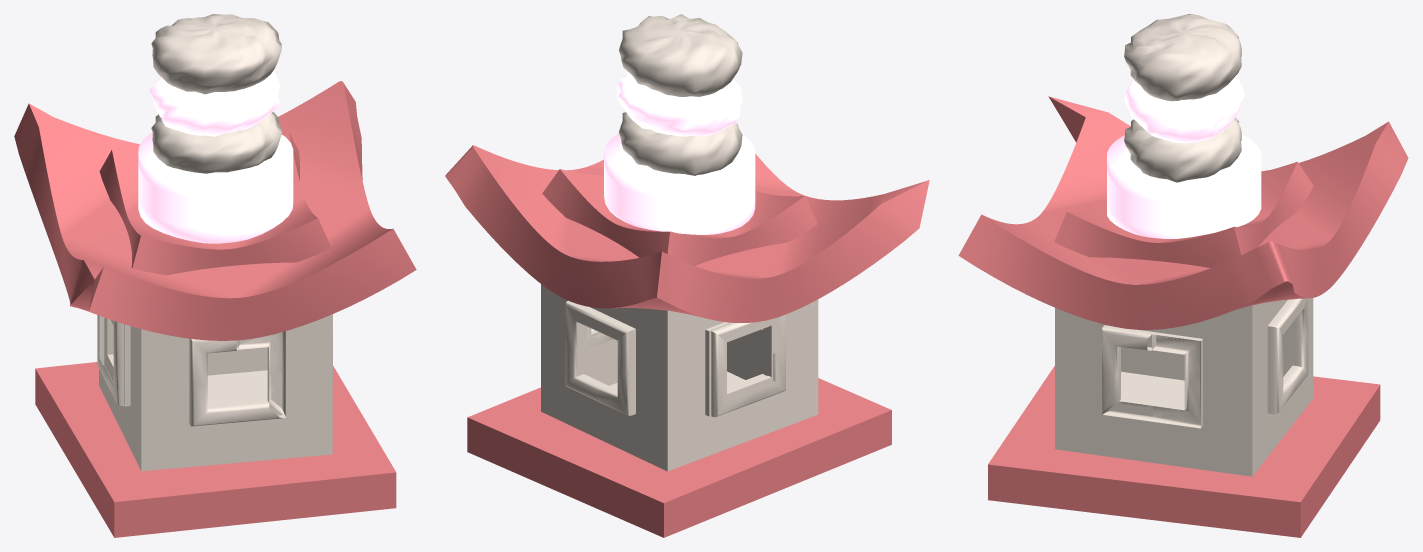
The model's file is statue.gltf.
3 views of the same model, side by side, from view 1: azimuth 30°, elevation 25°; view 2: azimuth 150°, elevation 25°; view 3: azimuth 270°, elevation 25° (orthographic). The views are drawn at different scales.
Parts seen in each view (by area): view 1: Cube (×2), Roof, Sphere.1 (×2), Cylinder.1, 3rd Sphere; view 2: Cube (×2), Roof, Sphere.1 (×2), Cylinder.1, 3rd Sphere; view 3: Cube (×2), Roof, Sphere.1 (×2), Cylinder.1, 3rd Sphere.
Boxes of the visible parts, x1,y1,x2,y2 form: Cube (×2): (35, 314, 396, 537); Roof: (14, 81, 416, 340); Sphere.1 (×2): (151, 14, 281, 173); Cylinder.1: (138, 132, 293, 243); 3rd Sphere: (149, 71, 281, 136); Cube (×2): (467, 284, 891, 537); Roof: (445, 145, 929, 322); Sphere.1 (×2): (619, 14, 742, 175); Cylinder.1: (604, 133, 755, 234); 3rd Sphere: (616, 71, 742, 136); Cube (×2): (988, 298, 1380, 537); Roof: (958, 96, 1408, 329); Sphere.1 (×2): (1124, 14, 1241, 182); Cylinder.1: (1107, 134, 1261, 238); 3rd Sphere: (1124, 75, 1244, 143).
Size of the model in its own units: 1.54 by 1.63 by 1.55.
